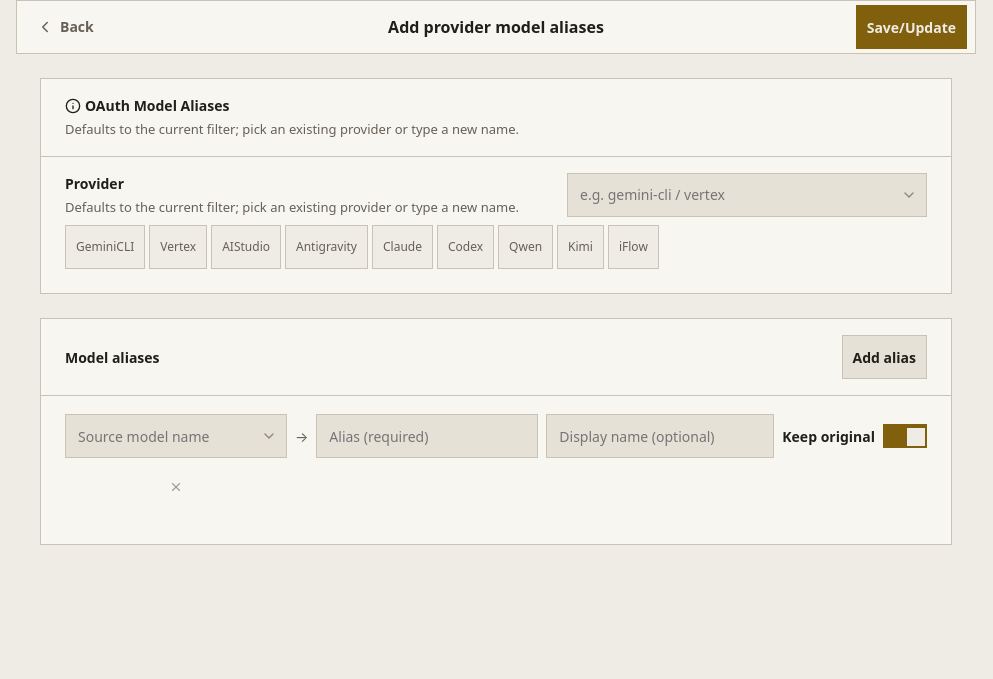
Test: AuthFilesOAuthModelAliasEditPage mapping rows › adds an empty mapping row when the add-alias button is clicked
The image size is (993, 679).
Expected: the number of fields with placeholder "Alias (required)" is 1, [316, 414, 538, 458]
Click the button "Add alias" at (884, 357), box [842, 335, 927, 379]
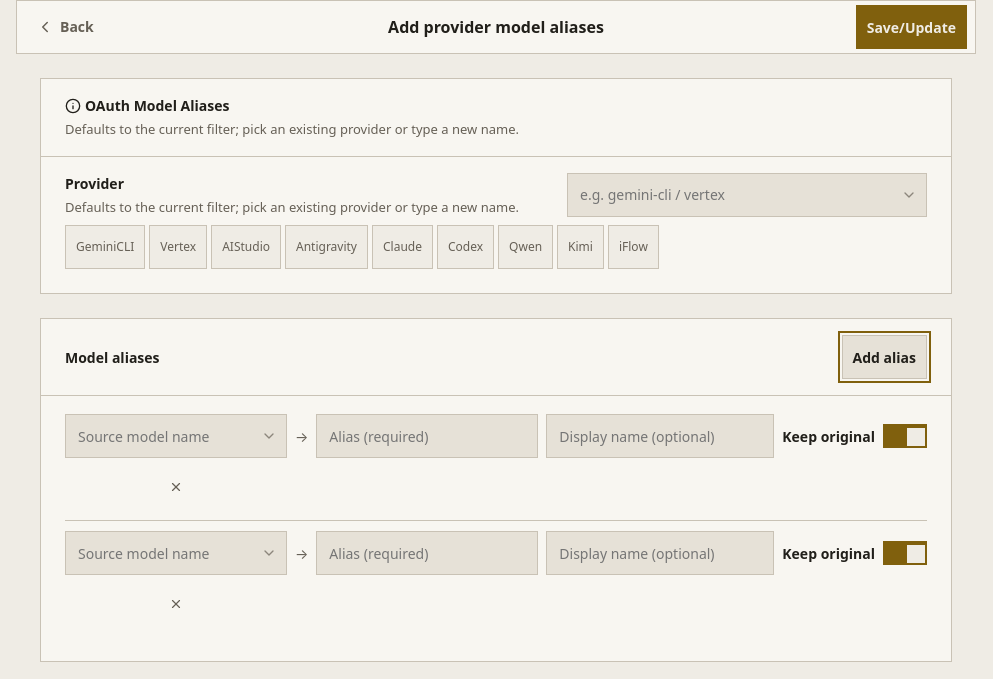
Result: the number of fields with placeholder "Alias (required)" is 2 at [316, 414, 538, 458]; [316, 531, 538, 575]
